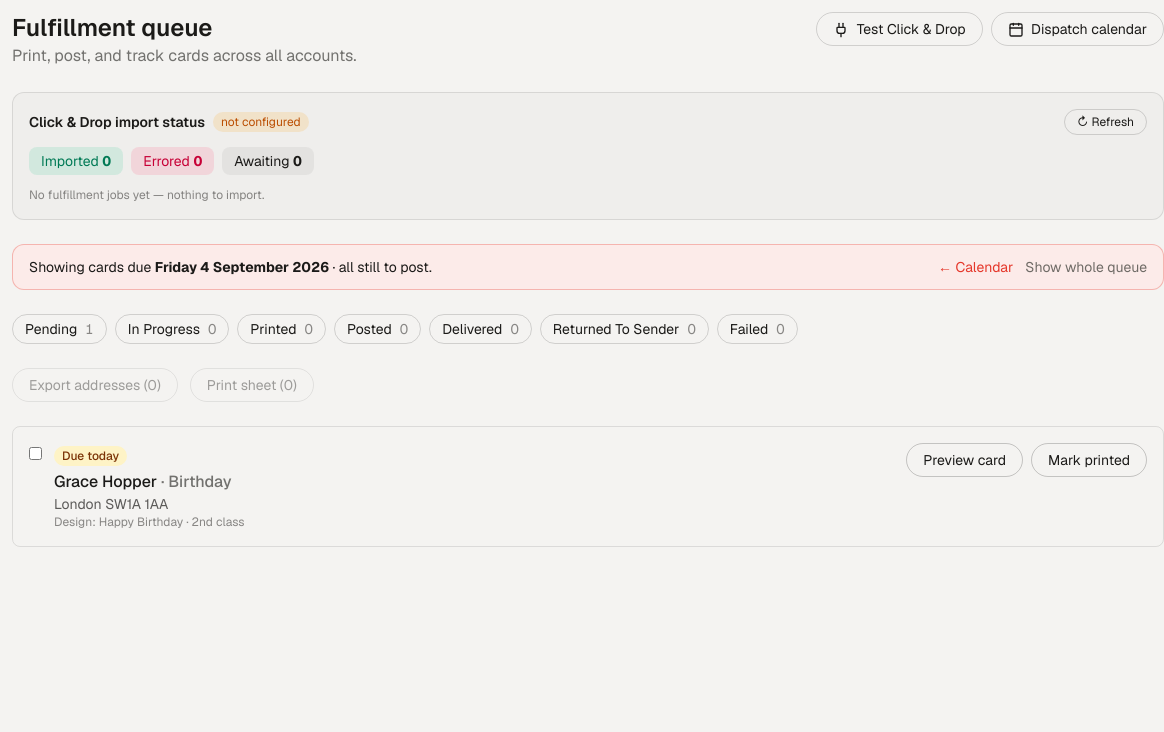
FulfillmentClient — advancing inside a deadline view › keeps a card that is still open after it is marked printed
What coordinates should you click on to do the following:
click the button "Mark printed"
I would click on:
 (1089, 460)
Its box is [1031,443,1147,477].
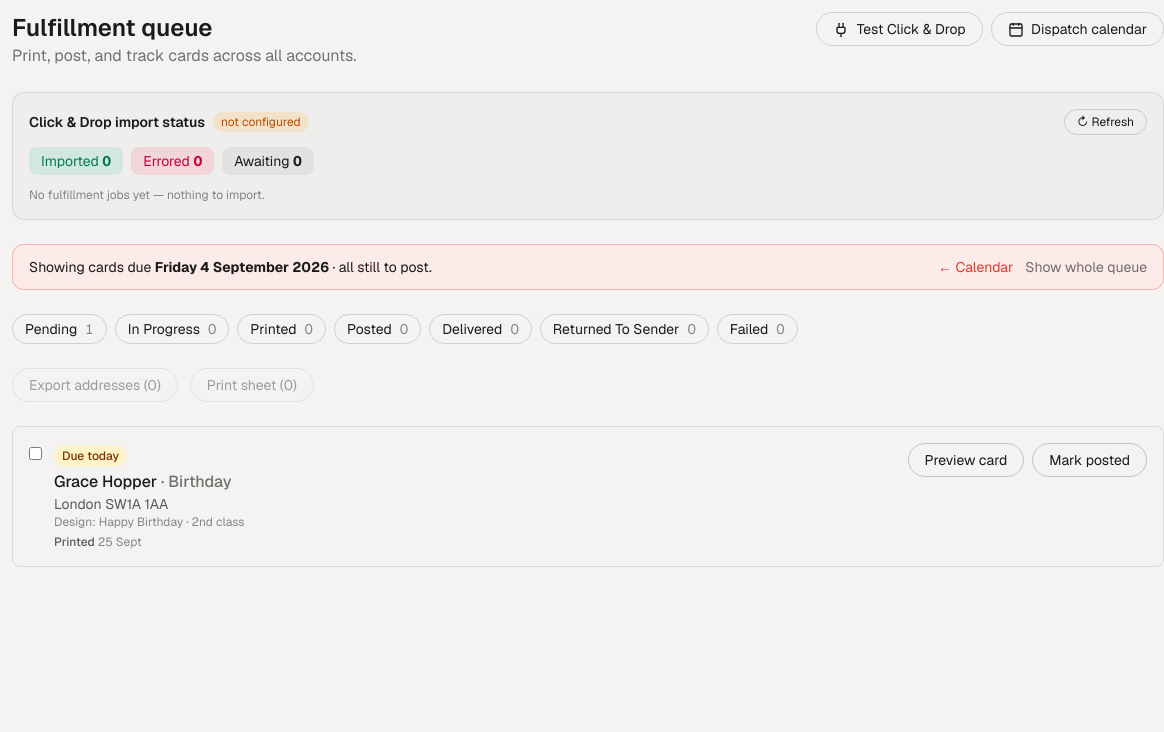
Expected: the text "Grace Hopper" is shown, [54,470,245,494]
Expected: the button "Mark posted" is shown, [1032,443,1147,477]
